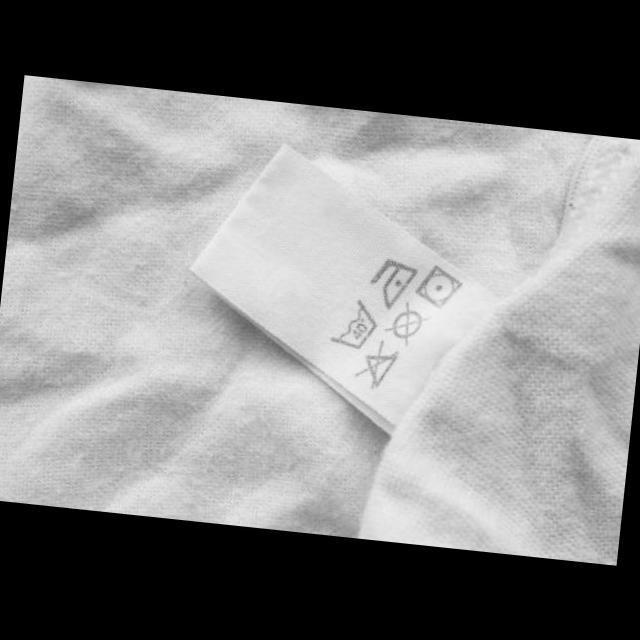40C: (324, 294, 382, 357)
DN_bleach: (352, 336, 404, 394)
DN_dry_clean: (378, 298, 434, 350)
iron_low: (364, 254, 422, 315)
tumble_dry_low: (411, 258, 466, 312)
